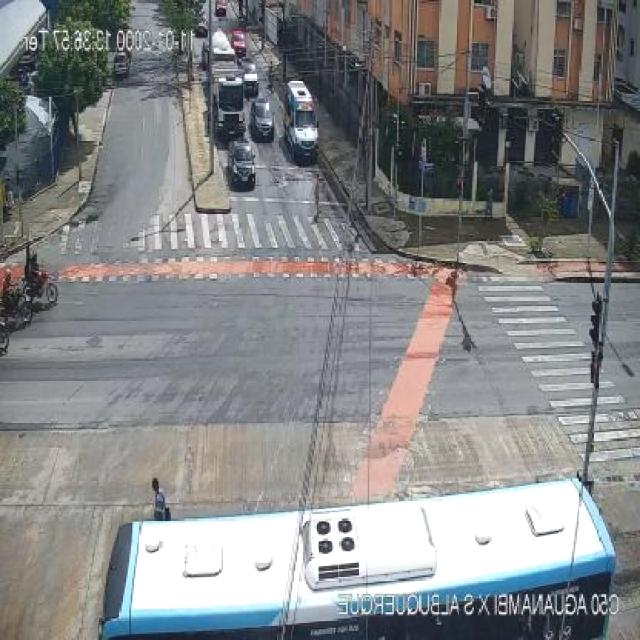Bus: (81, 478, 621, 640)
Car: (221, 142, 259, 187), (250, 96, 278, 140), (238, 58, 259, 93), (230, 28, 251, 58)
Truck: (208, 63, 250, 140)
Van: (280, 80, 322, 162)
